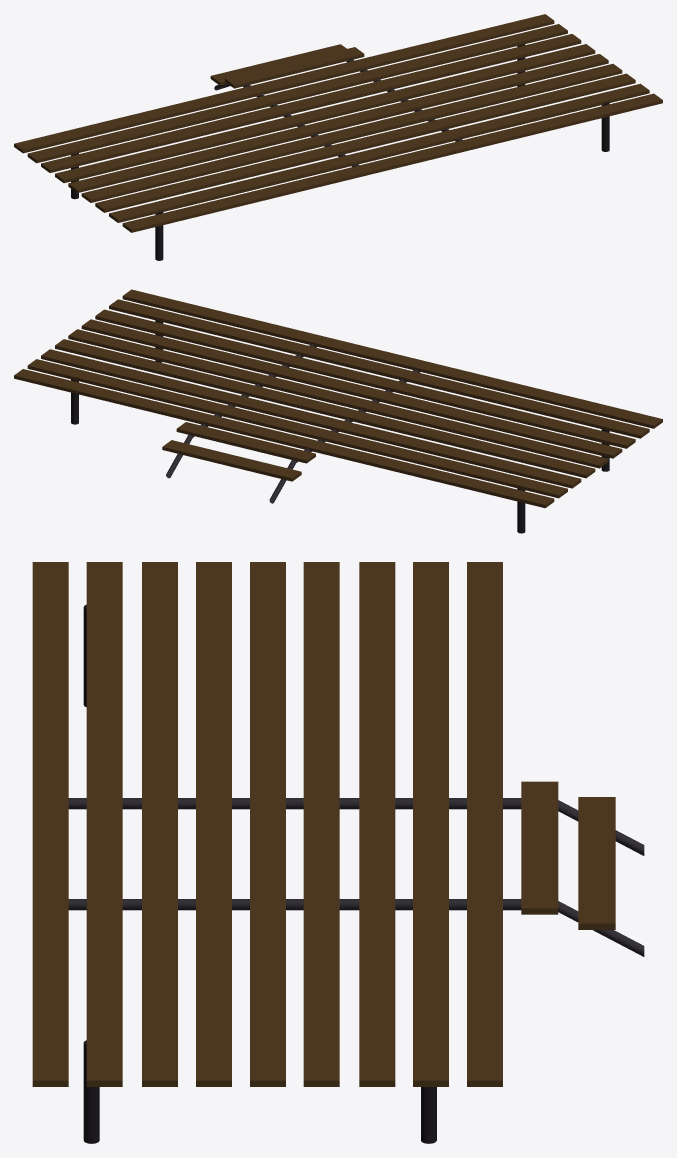
The model's file is CA_069_wooden_planks_var1.glb.
3 renders of one model, top to bottom at view 1: azimuth 30°, elevation 25°; view 2: azimuth 150°, elevation 25°; view 3: azimuth 270°, elevation 25°, orthographic. The views are drawn at different scales.
Visible parts, largest first — view 1: long_wooden_planks, support_bars_stairs, support_legs; view 2: long_wooden_planks, support_bars_stairs, support_legs; view 3: long_wooden_planks, support_bars_stairs, support_legs.
Part boxes in pixels (left/top/right/bottom): long_wooden_planks: left=14, top=14, right=662, bottom=232; support_bars_stairs: left=210, top=44, right=364, bottom=90; support_legs: left=71, top=44, right=609, bottom=260; long_wooden_planks: left=14, top=289, right=662, bottom=508; support_bars_stairs: left=162, top=422, right=315, bottom=503; support_legs: left=71, top=320, right=609, bottom=533; long_wooden_planks: left=32, top=562, right=521, bottom=1086; support_bars_stairs: left=521, top=781, right=644, bottom=956; support_legs: left=83, top=604, right=436, bottom=1143.
Size of the model in its own units: 8.24 by 0.75 by 4.11.
